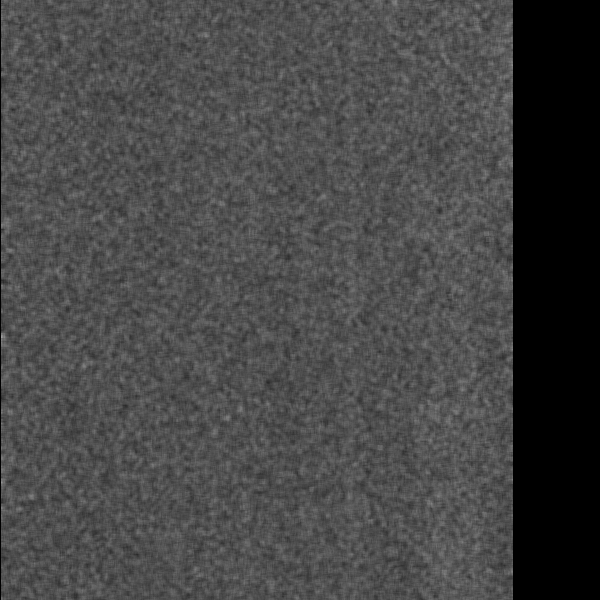spark: (137, 205, 167, 260), (46, 548, 77, 574)
